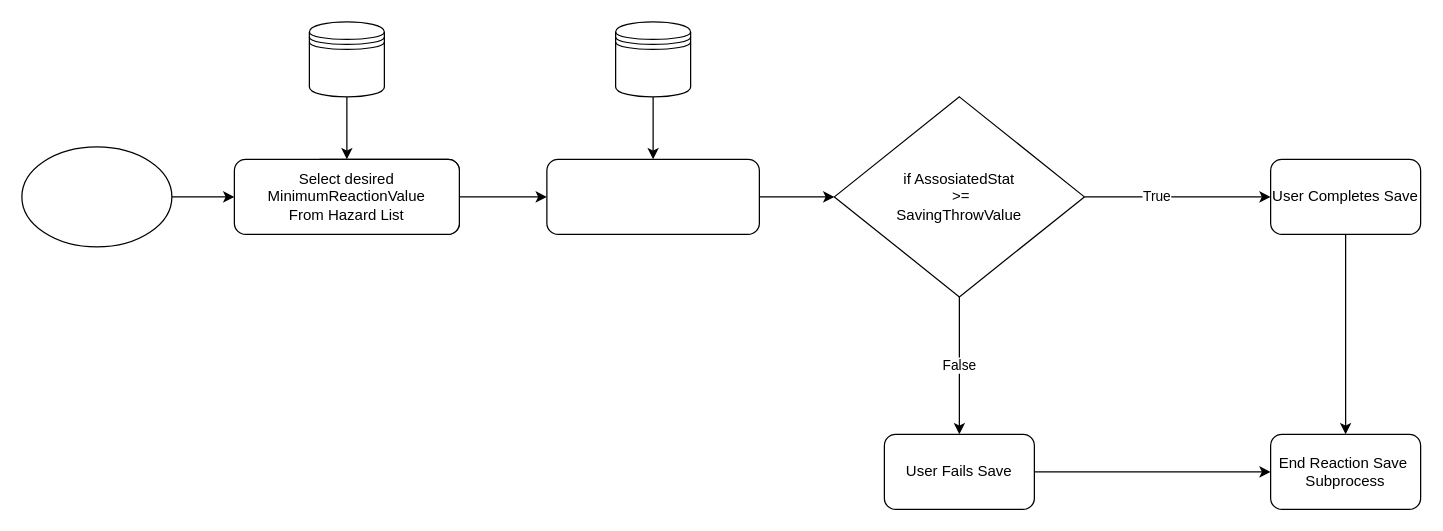
This 1443x531 diagram has some shape labels left out. The shapes that lost their labels are listed below. From the top down, each one's centre as x and y in pixels, then its label:
At point (96, 196): "Start Reaction Save subprocess".
At point (652, 196): "Select users predefined SavingThrowValue (Int, Str, Const, etc.)".
